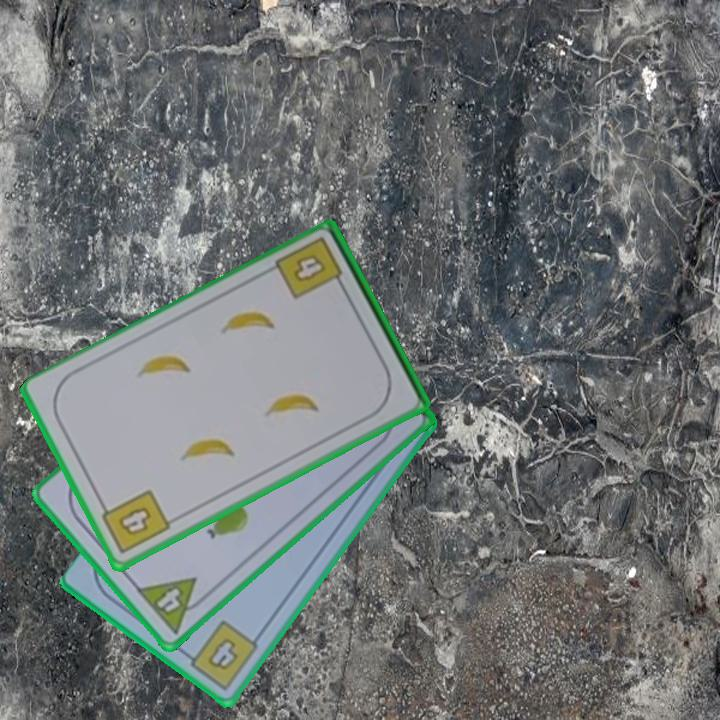4b: (180, 617, 262, 694), (96, 486, 173, 557), (272, 233, 349, 300)
4p: (133, 574, 213, 637)
